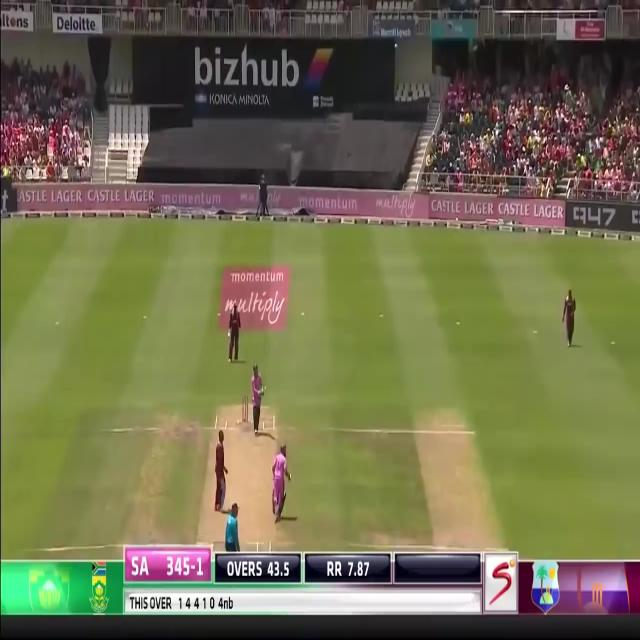Ball: (272, 444, 288, 522), (248, 364, 265, 429)
Fielder: (212, 428, 228, 516), (227, 297, 242, 363), (561, 290, 576, 346)
